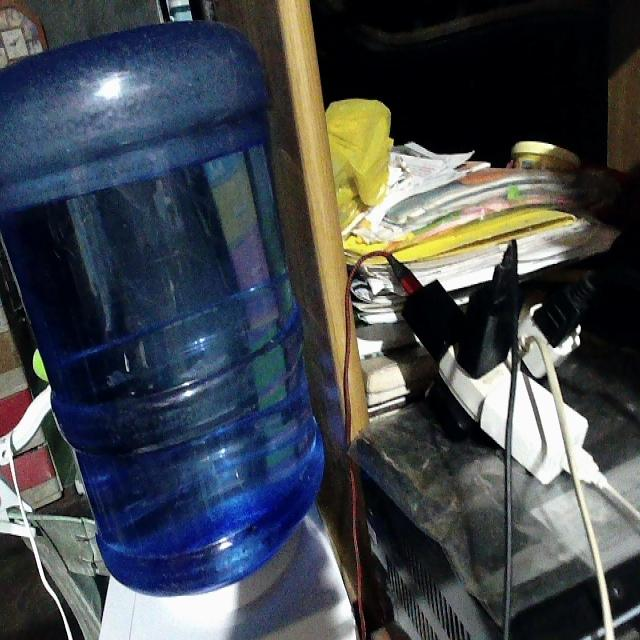-: (382, 236, 610, 491)
